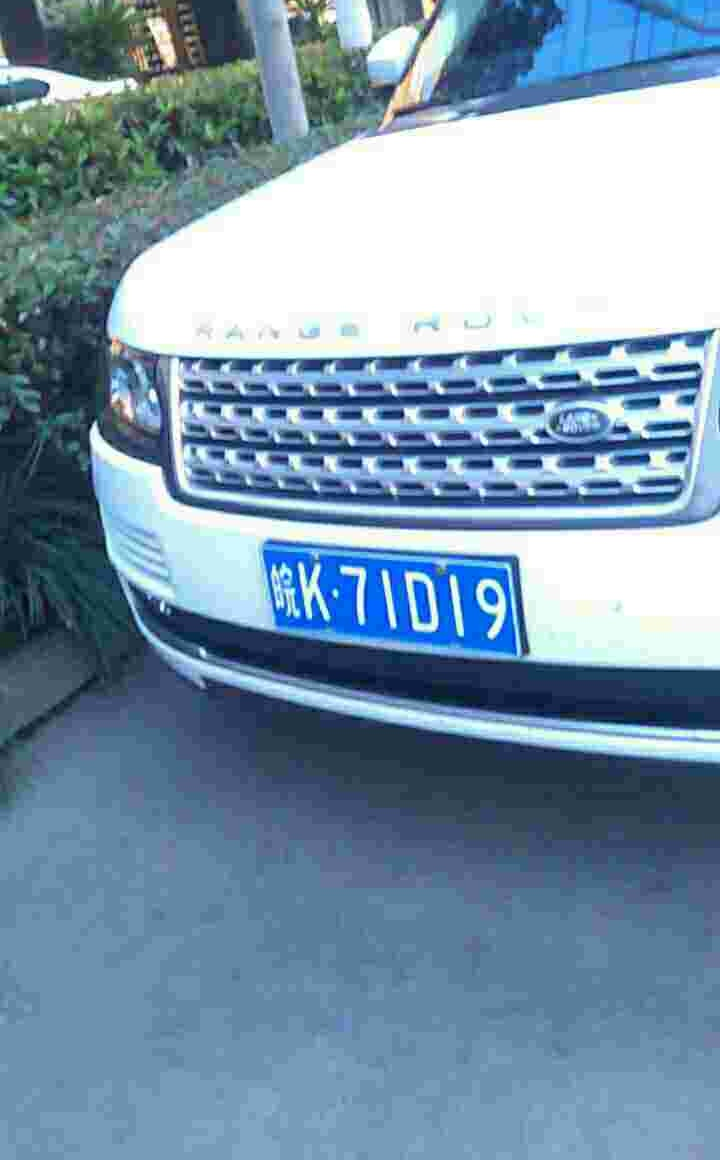car: (254, 546, 536, 664)
